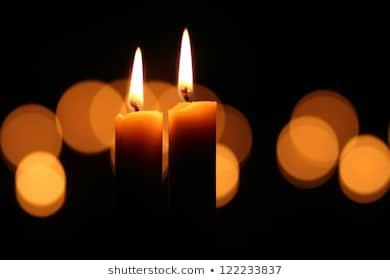fire: (126, 43, 146, 109), (176, 24, 194, 96)
